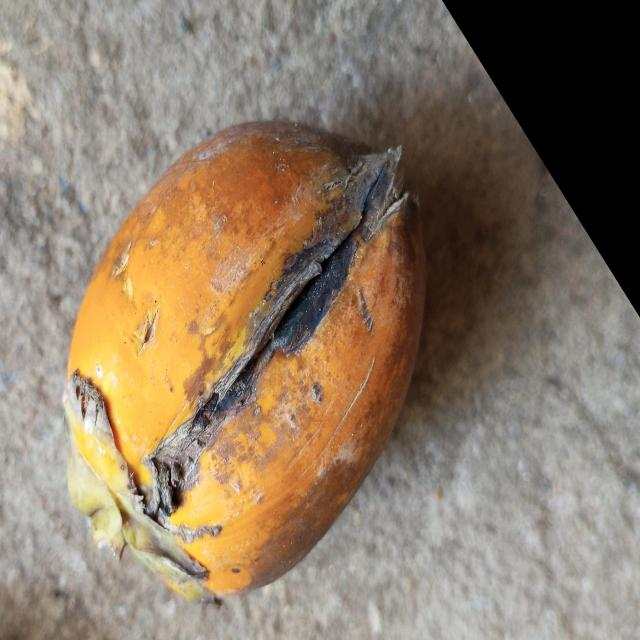damaged: (61, 121, 427, 610)
